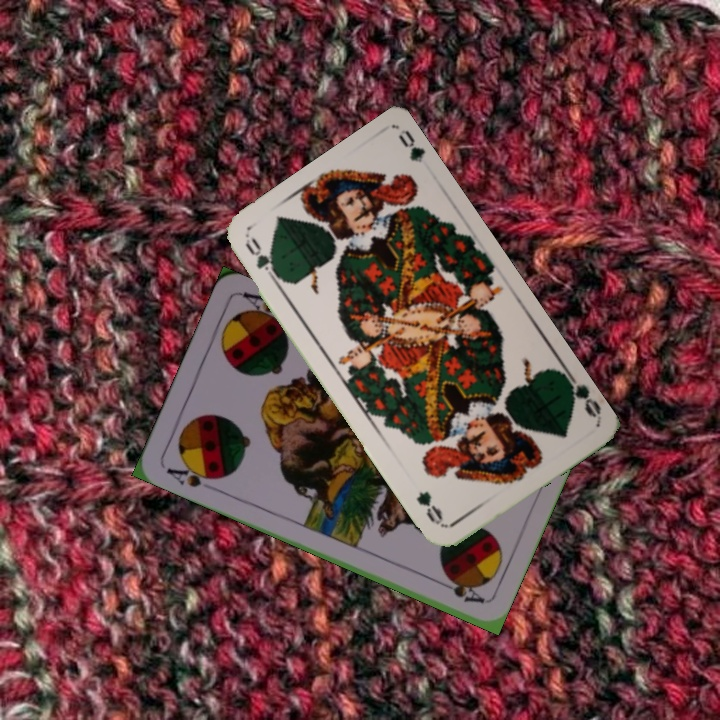GO: (241, 233, 285, 288), (560, 367, 604, 421)
SA: (162, 459, 221, 490)
